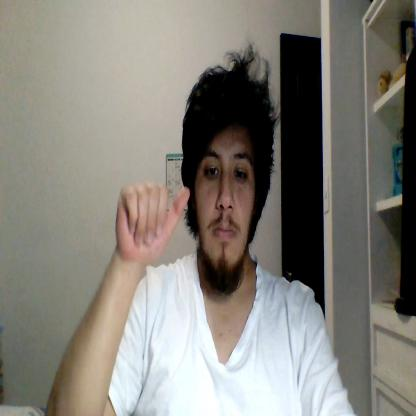A: (115, 180, 190, 264)
